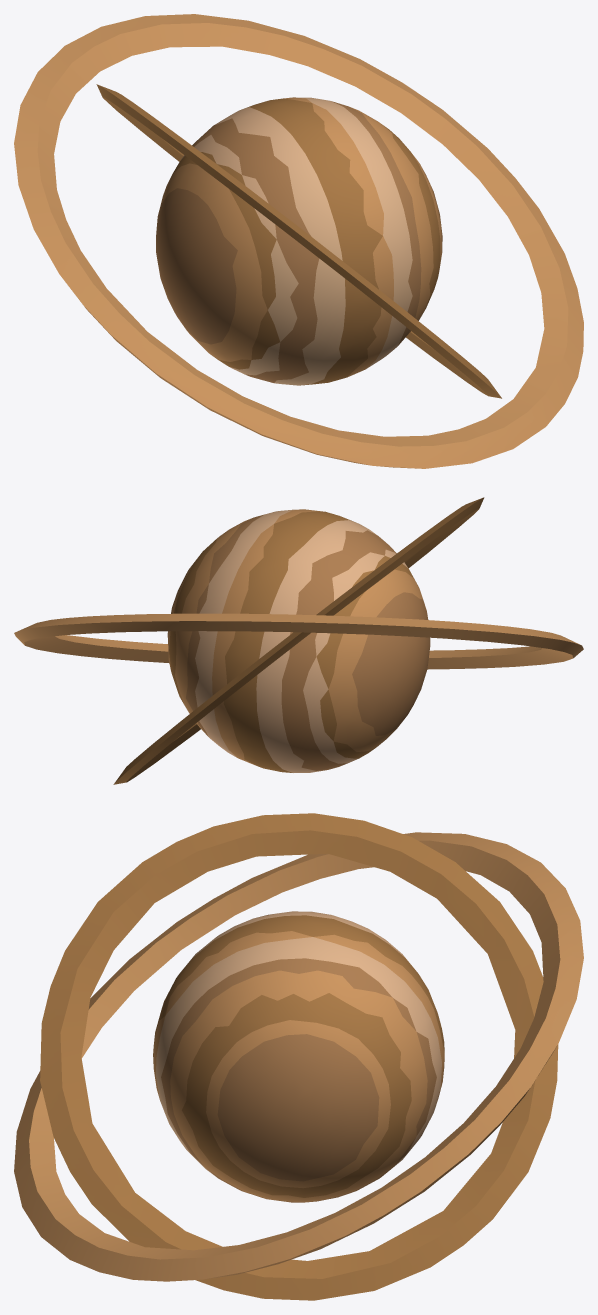
The model's file is q-planet-9g1albfr9y.glb.
The picture shows the model from 3 angles, top to bottom: view 1: azimuth 30°, elevation 25°; view 2: azimuth 150°, elevation 25°; view 3: azimuth 270°, elevation 25°; orthographic projection. The views are drawn at different scales.
Parts seen in each view (by area): view 1: Planet_7; view 2: Planet_7; view 3: Planet_7.
Part boxes in pixels (x1=…): Planet_7: x1=14, y1=14, x2=583, y2=468; Planet_7: x1=14, y1=497, x2=583, y2=784; Planet_7: x1=14, y1=813, x2=583, y2=1300.
Size of the model in its own units: 4.81 by 2.87 by 4.46.
Materials: 1 (1 with a texture image).
